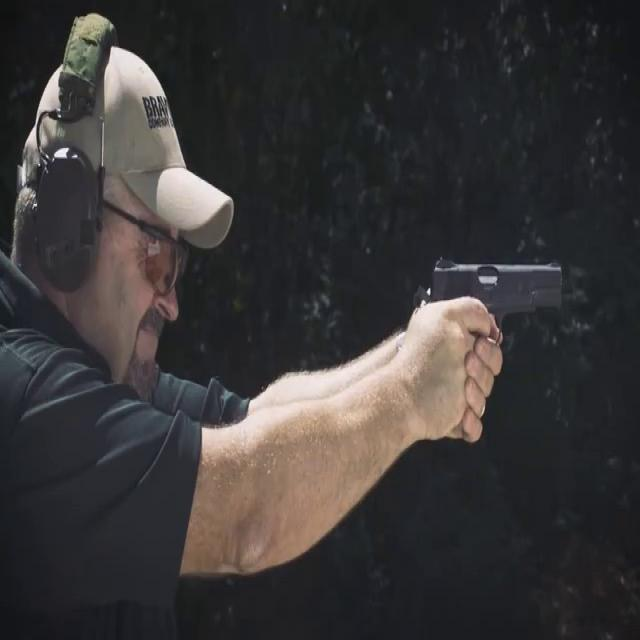gun-knife-thesis - v11 Yolov5 augmented: (407, 234, 565, 434)
